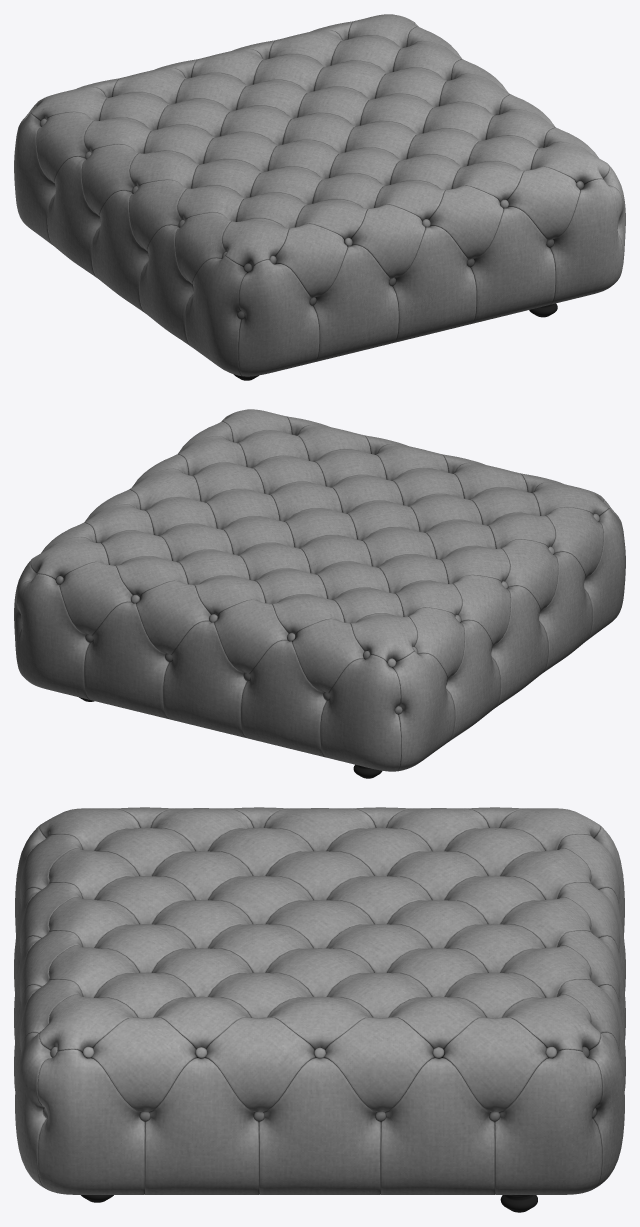
File: 1x.3x1 chair.glb
The picture shows the model from 3 angles, top to bottom: view 1: azimuth 30°, elevation 25°; view 2: azimuth 150°, elevation 25°; view 3: azimuth 270°, elevation 25°; orthographic projection. The views are drawn at different scales.
Parts seen in each view (by area): view 1: Branagh_Large_Ottoman_PearlGrey; view 2: Branagh_Large_Ottoman_PearlGrey; view 3: Branagh_Large_Ottoman_PearlGrey.
Boxes of the visible parts, left/top/right/bottom form: Branagh_Large_Ottoman_PearlGrey: left=14, top=14, right=625, bottom=380; Branagh_Large_Ottoman_PearlGrey: left=14, top=409, right=625, bottom=778; Branagh_Large_Ottoman_PearlGrey: left=14, top=807, right=625, bottom=1212.
Size of the model in its own units: 1.03 by 0.3813 by 1.02.
2 materials, 1 textured.
